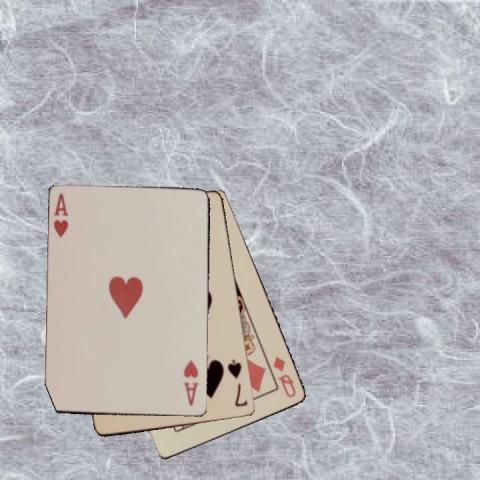7s: (225, 356, 249, 409)
Ah: (181, 358, 200, 408), (51, 190, 70, 239)
Qd: (270, 354, 298, 400)
